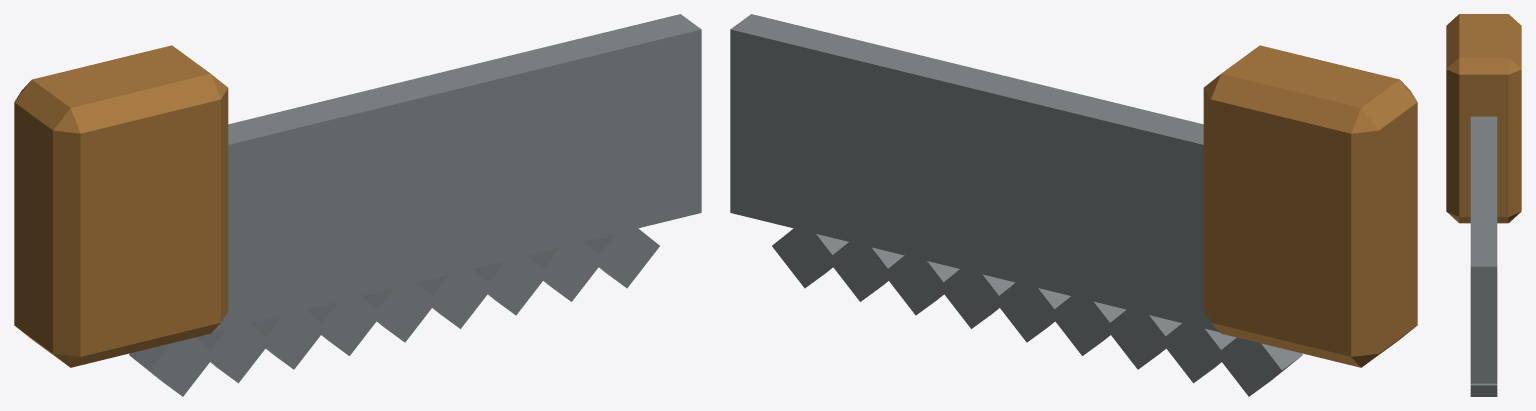
The model's file is Saw.fbx.
3 renders of one model, left to right at view 1: azimuth 30°, elevation 25°; view 2: azimuth 150°, elevation 25°; view 3: azimuth 270°, elevation 25°, orthographic. The views are drawn at different scales.
Parts seen in each view (by area): view 1: Saw_Export; view 2: Saw_Export; view 3: Saw_Export.
Part boxes in pixels (x1=…): Saw_Export: x1=14, y1=14, x2=701, y2=396; Saw_Export: x1=730, y1=14, x2=1417, y2=396; Saw_Export: x1=1446, y1=14, x2=1521, y2=396.
Bounding box in the file's own units: 0.45 × 0.2126 × 0.07.
